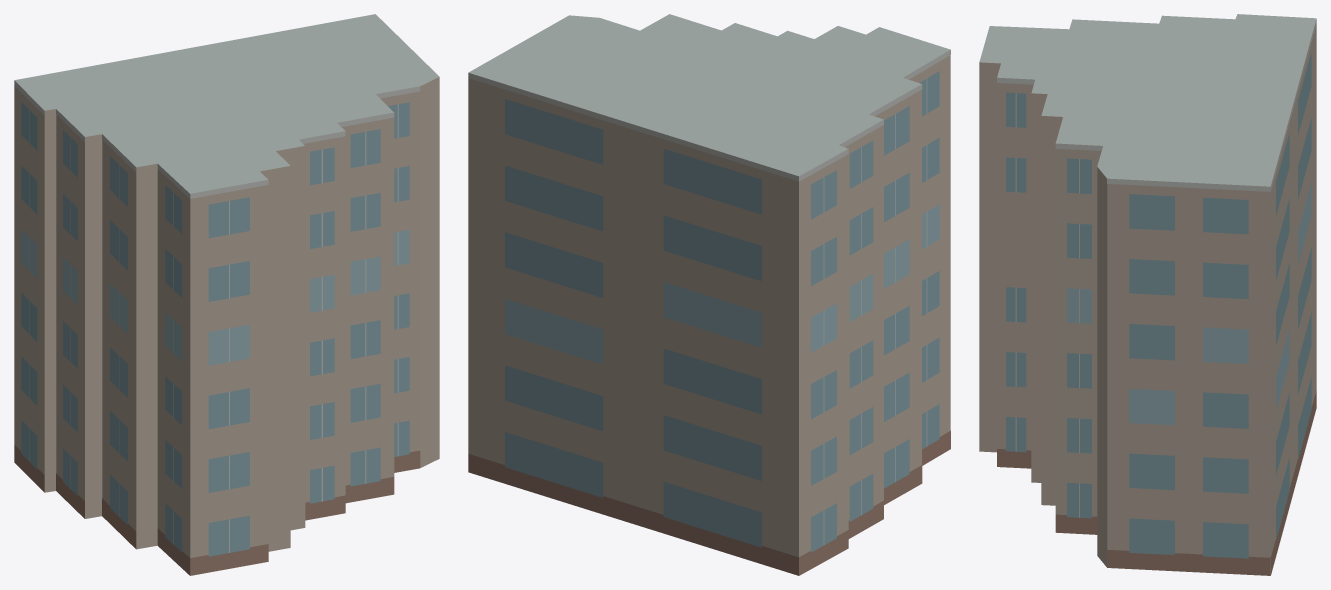
File: survey-upis-32996818.glb
The picture shows the model from 3 angles, left to right: view 1: azimuth 30°, elevation 25°; view 2: azimuth 150°, elevation 25°; view 3: azimuth 270°, elevation 25°; orthographic projection. The views are drawn at different scales.
Parts seen in each view (by area): view 1: survey-upis-32996818.tmp; view 2: survey-upis-32996818.tmp; view 3: survey-upis-32996818.tmp.
Boxes of the visible parts, x1=… form: survey-upis-32996818.tmp: x1=14, y1=14, x2=439, y2=575; survey-upis-32996818.tmp: x1=468, y1=14, x2=950, y2=575; survey-upis-32996818.tmp: x1=979, y1=14, x2=1316, y2=575.
Bounding box in the file's own units: 17.42 × 18.3 × 14.39.
